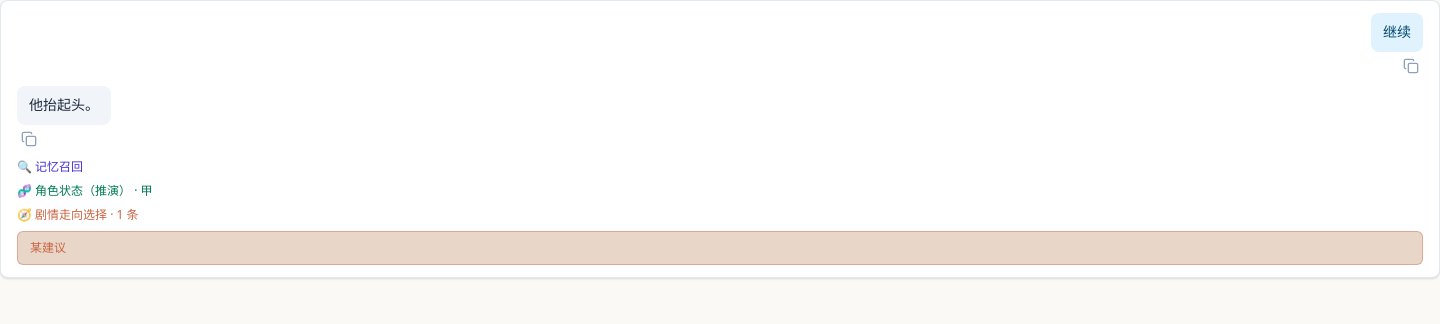
it: TurnSegments › renders a placeholder when round.recallContext is empty
The width and height of the screenshot is (1440, 324).
Click the button "🔍 记忆召回" at (50, 166), box left=17, top=158, right=83, bottom=174
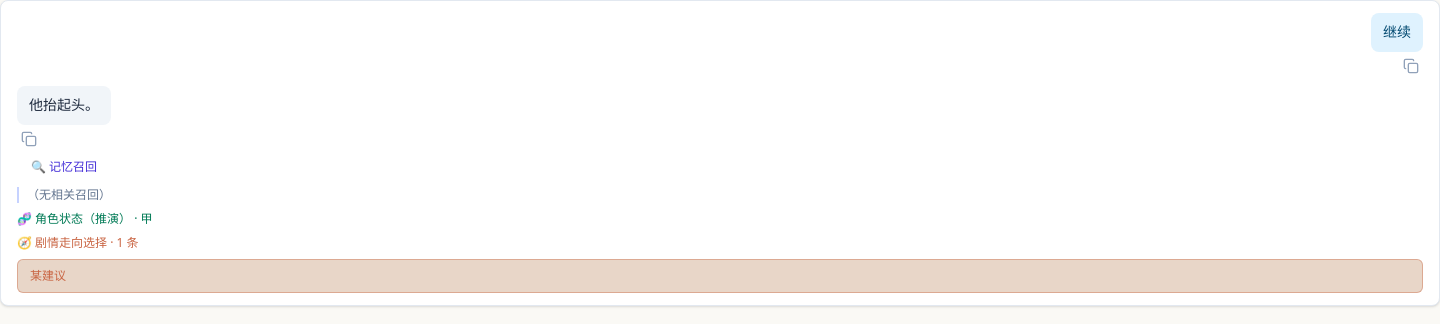
Now the text "（无相关召回）" is shown, box left=17, top=186, right=111, bottom=202
